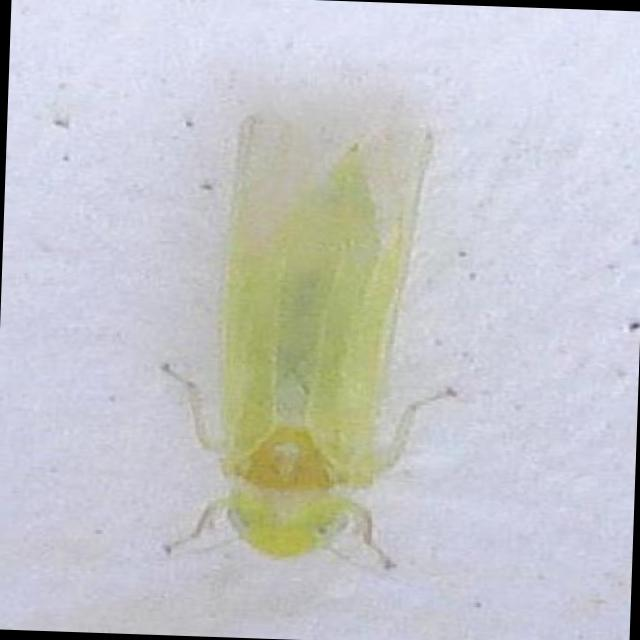green-leafhopper: (133, 127, 471, 572)
